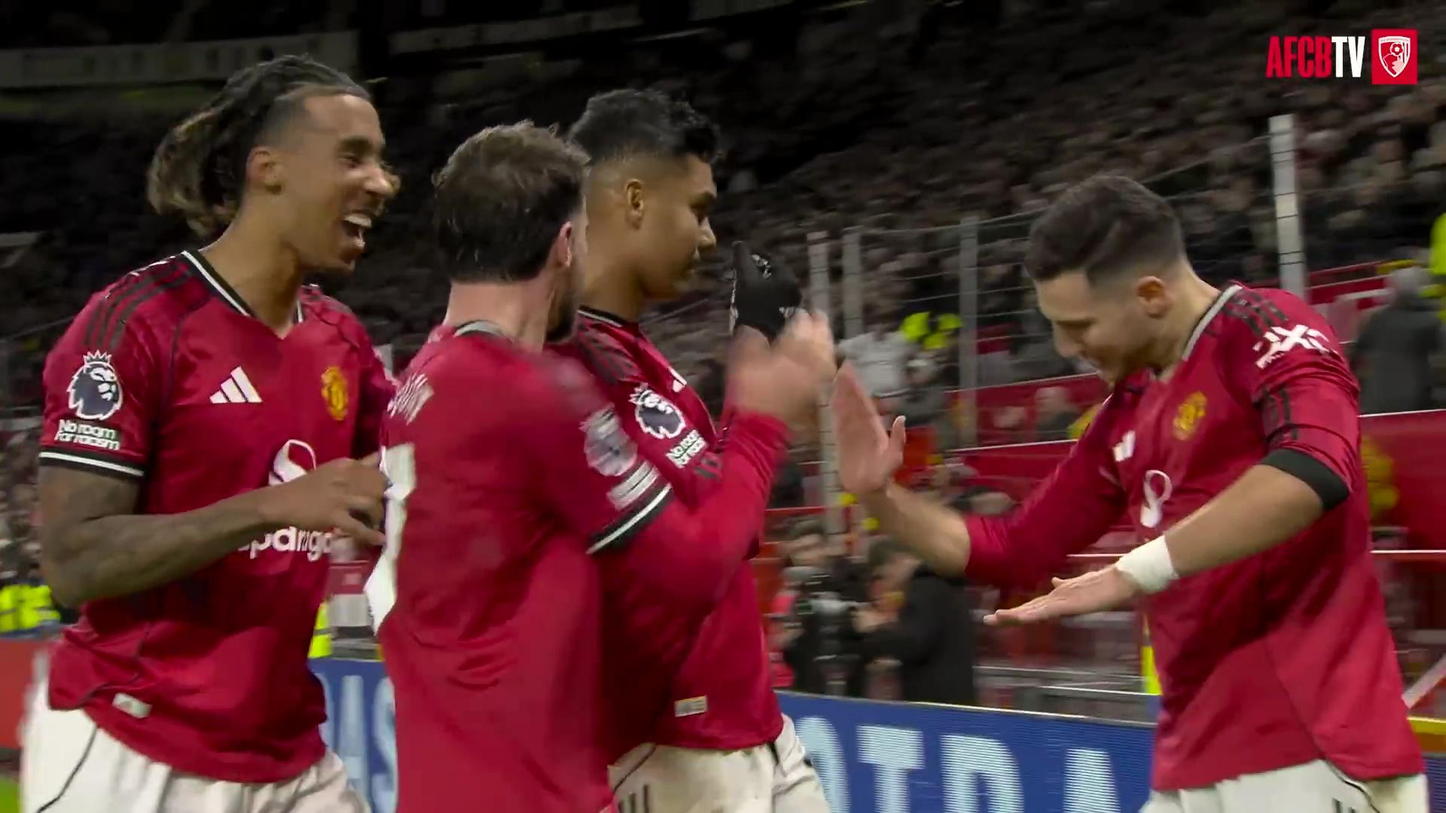player: (832, 177, 1426, 812), (367, 123, 832, 812), (22, 57, 394, 812), (558, 90, 735, 505)
